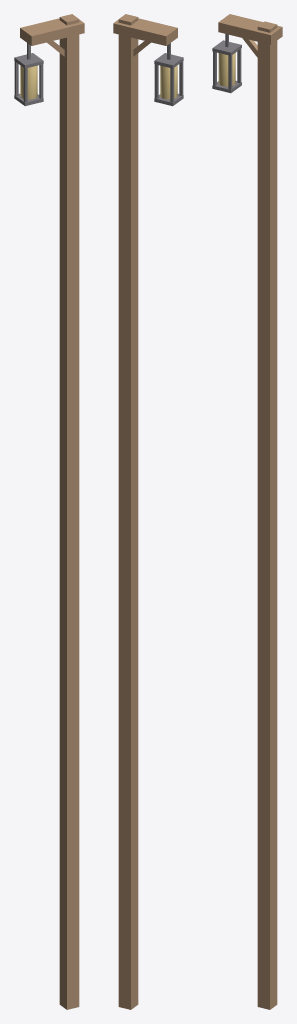
Rendered from MinecartMayhemLantern.glb.
3 renders of one model, left to right at view 1: azimuth 30°, elevation 25°; view 2: azimuth 150°, elevation 25°; view 3: azimuth 330°, elevation 25°, orthographic.
Visible parts, largest first — view 1: Timber, Iron, Glow; view 2: Timber, Iron, Glow; view 3: Timber, Iron, Glow.
Part boxes in pixels (<box>): Timber: <box>20,14,84,1009</box>; Iron: <box>14,43,43,106</box>; Glow: <box>20,65,37,99</box>; Timber: <box>113,14,177,1009</box>; Iron: <box>154,43,183,106</box>; Glow: <box>160,65,177,99</box>; Timber: <box>218,14,282,1009</box>; Iron: <box>212,34,241,93</box>; Glow: <box>218,53,235,86</box>.
Size of the model in its own units: 1.9 by 30.2 by 0.64.
